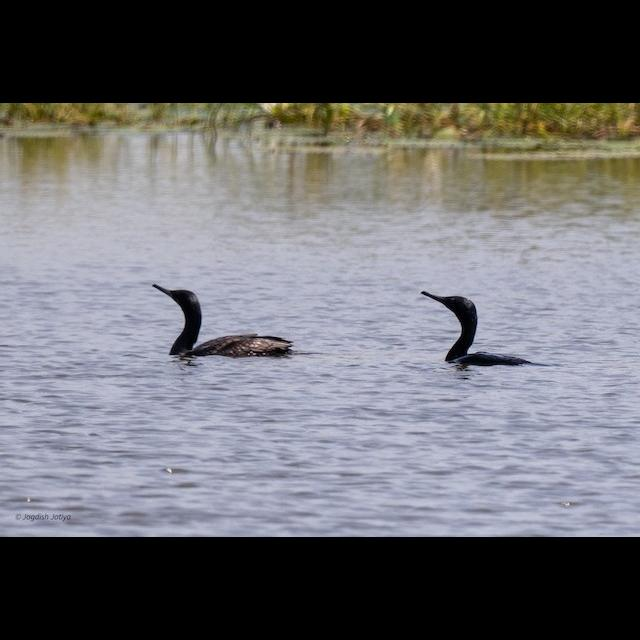cormorant: (145, 278, 305, 364), (408, 284, 566, 368)
